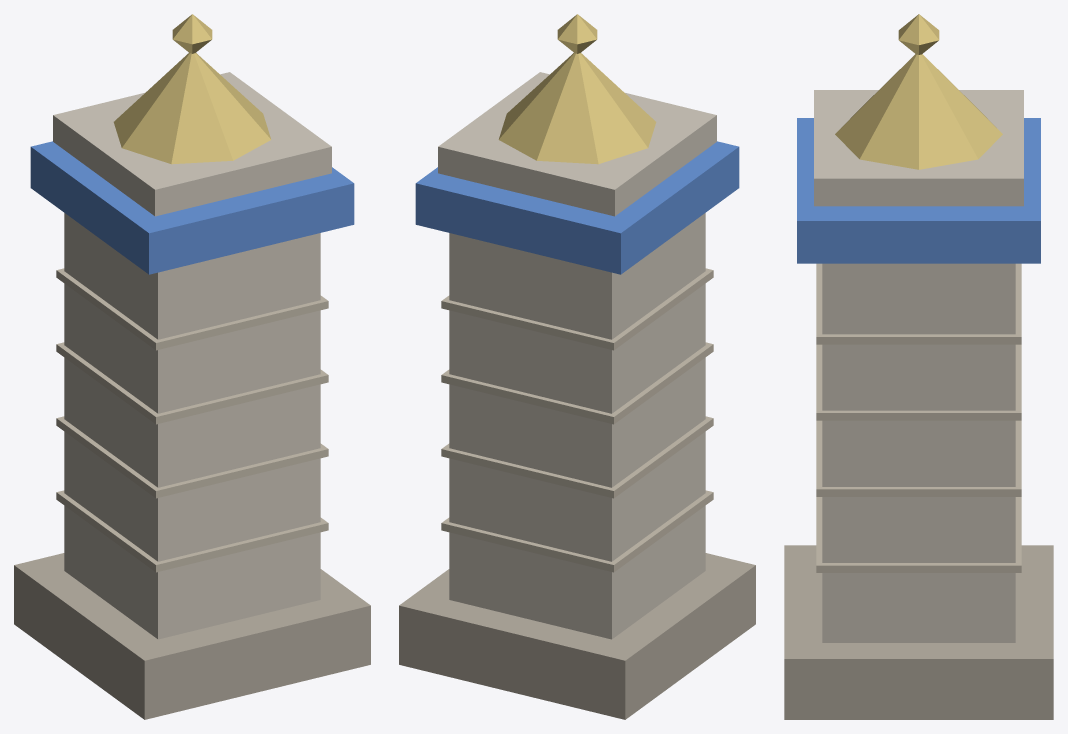
File: gate_pillar.glb
The picture shows the model from 3 angles, left to right: view 1: azimuth 30°, elevation 25°; view 2: azimuth 150°, elevation 25°; view 3: azimuth 270°, elevation 25°; orthographic projection. The views are drawn at different scales.
Size of the model in its own units: 1.6 by 4.26 by 1.6.
